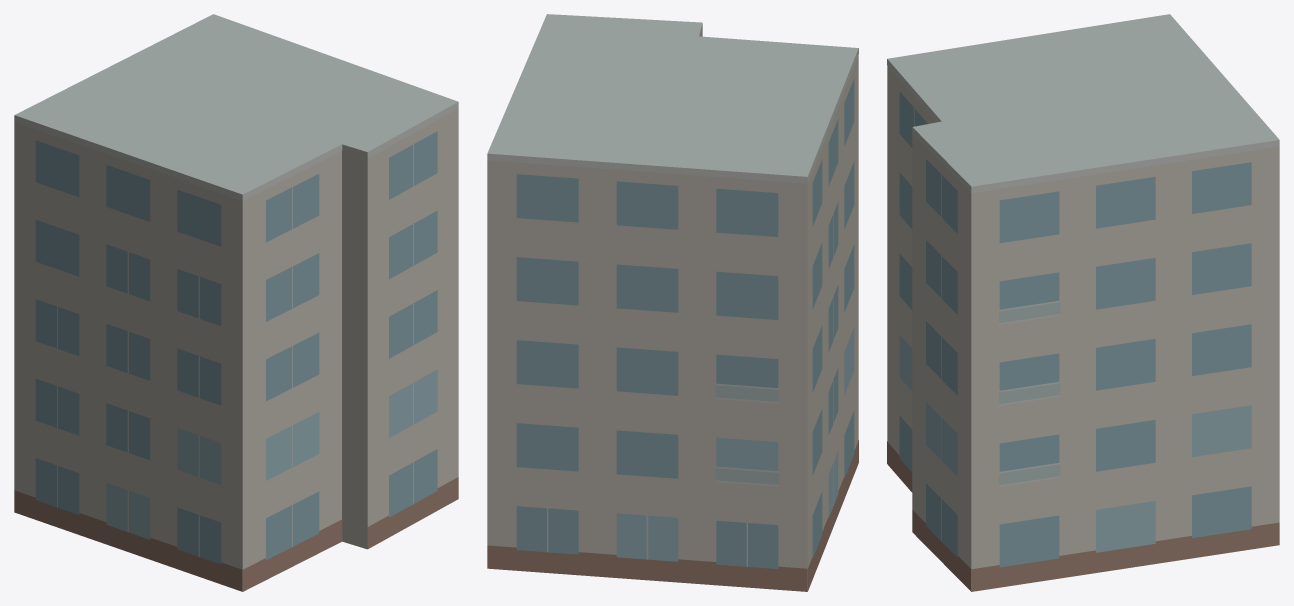
File: survey-upis-32863601.glb
The picture shows the model from 3 angles, left to right: view 1: azimuth 30°, elevation 25°; view 2: azimuth 150°, elevation 25°; view 3: azimuth 270°, elevation 25°; orthographic projection. The views are drawn at different scales.
Parts seen in each view (by area): view 1: survey-upis-32863601.tmp; view 2: survey-upis-32863601.tmp; view 3: survey-upis-32863601.tmp.
Boxes of the visible parts, bbox=[...] form: survey-upis-32863601.tmp: bbox=[14, 14, 458, 591]; survey-upis-32863601.tmp: bbox=[487, 14, 858, 591]; survey-upis-32863601.tmp: bbox=[887, 14, 1279, 591].
Bounding box in the file's own units: 13.81 × 15.1 × 13.27.
